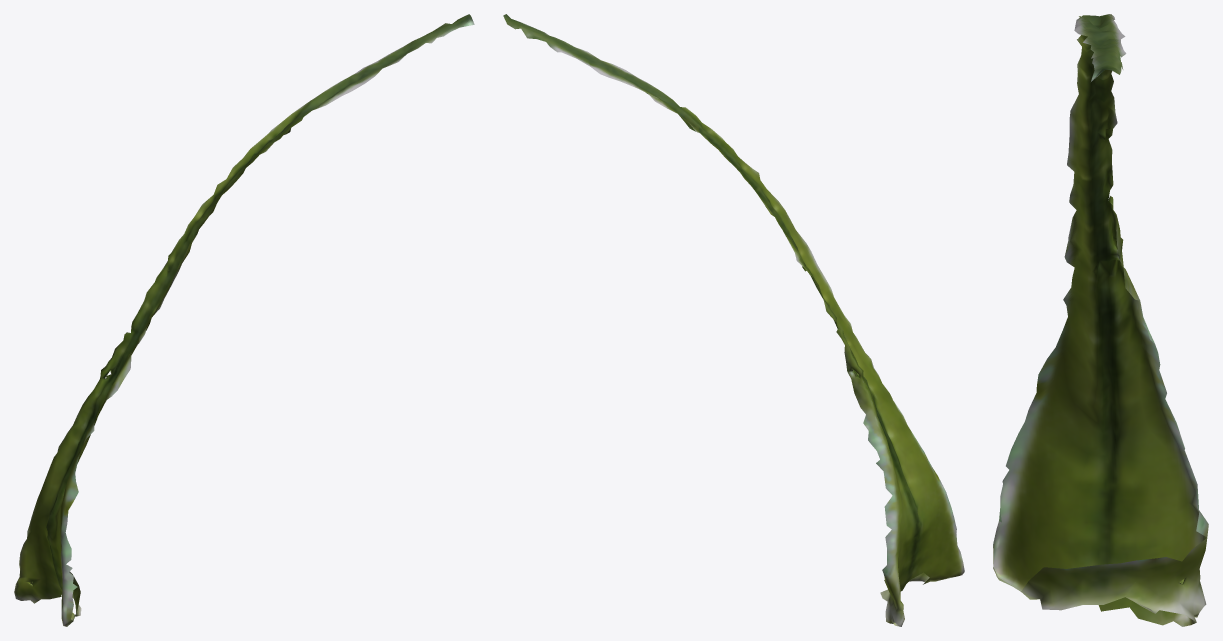
Rendered from curved_stem.obj.
3 renders of one model, left to right at view 1: azimuth 30°, elevation 25°; view 2: azimuth 150°, elevation 25°; view 3: azimuth 270°, elevation 25°, orthographic. The views are drawn at different scales.
Visible parts, largest first — view 1: mesh.006; view 2: mesh.006; view 3: mesh.006.
Part boxes in pixels (x1=…): mesh.006: x1=14, y1=14, x2=474, y2=626; mesh.006: x1=503, y1=14, x2=964, y2=626; mesh.006: x1=993, y1=14, x2=1208, y2=626.
Size of the model in its own units: 0.3293 by 0.3615 by 0.0757.
